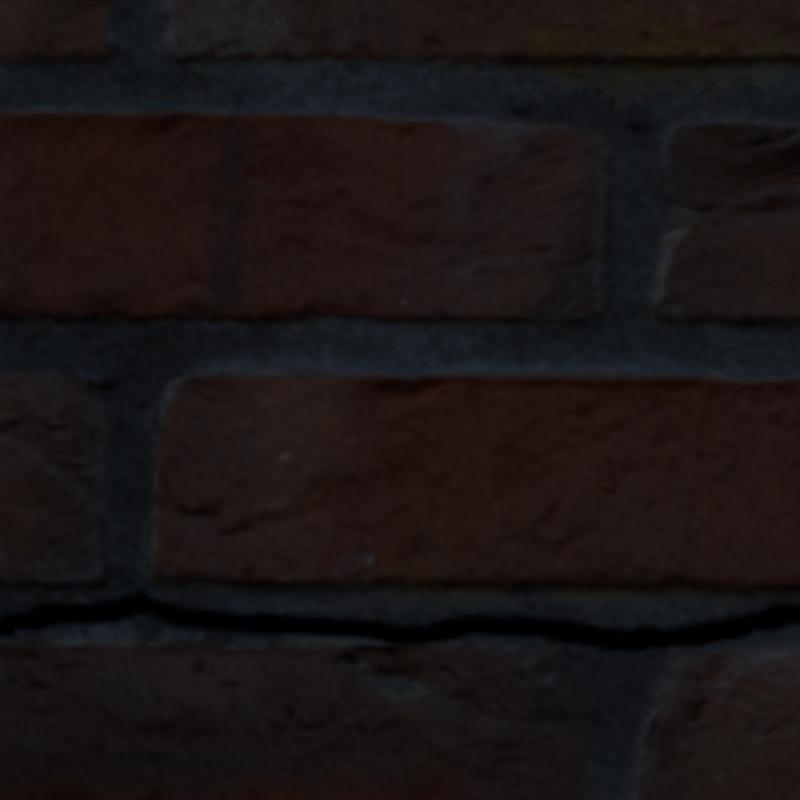crack: (0, 589, 796, 650)
